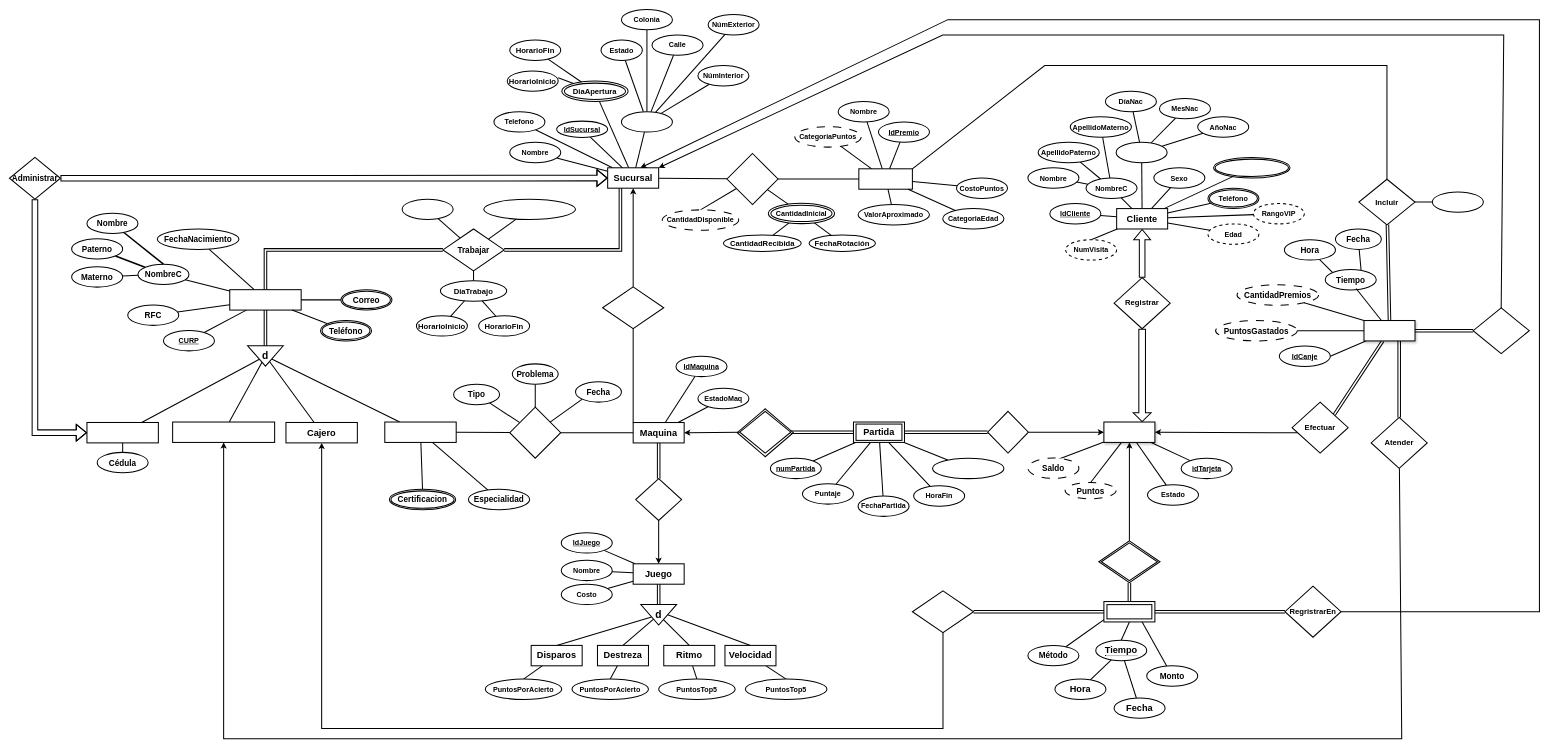
The diagram is 1552 pixels wide and 752 high, and some of its shapes have lost their labels. Each missing label, with the centre of its shape:
Almacenar: pixel 752 179
Canje: pixel 1389 331
Cantidad: pixel 1458 202
CorreoElectronico: pixel 1251 167
Dirección: pixel 647 121
Empleado: pixel 265 299
EncargadoPremios: pixel 223 432
FechaContratación: pixel 529 209
FechaNac: pixel 1141 152
Gerente: pixel 122 432
Instalar: pixel 658 499
Jugar: pixel 1008 432
OcurrirEn: pixel 1500 330
Pedir: pixel 1129 561
Pertenecer: pixel 633 307
Premio: pixel 885 178
PuntosObtenidos: pixel 968 468
Realizar: pixel 943 611
Recarga: pixel 1129 611
Reparar: pixel 535 432
Reproducir: pixel 765 432
Salario: pixel 427 209
Tarjeta: pixel 1129 432
Técnico: pixel 420 432
